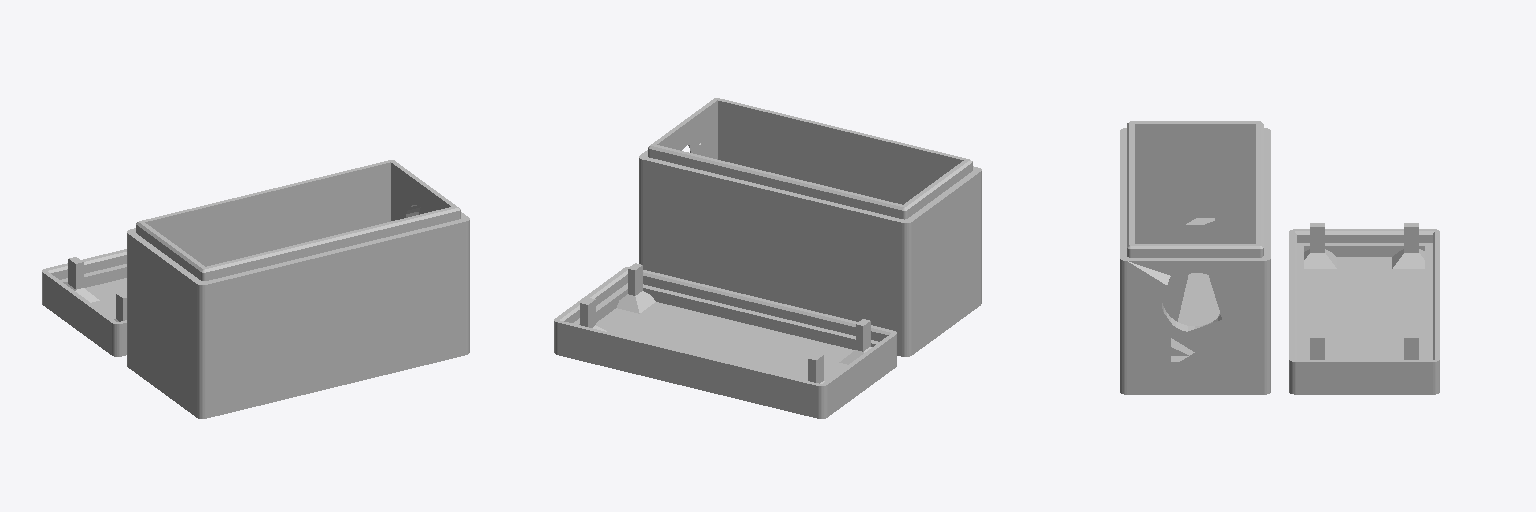
Rendered from nano-case.obj.
The picture shows the model from 3 angles: view 1: azimuth 30°, elevation 25°; view 2: azimuth 150°, elevation 25°; view 3: azimuth 270°, elevation 25°; orthographic projection.
Visible parts, largest first — view 1: NANOCASE-bottom.012_NANOCASE-bottom.003, NANOCASE-top-0.010; view 2: NANOCASE-bottom.012_NANOCASE-bottom.003, NANOCASE-top-0.010; view 3: NANOCASE-bottom.012_NANOCASE-bottom.003, NANOCASE-top-0.010.
Part boxes in pixels (x1,y1,x2,y2): NANOCASE-bottom.012_NANOCASE-bottom.003: (127,160,469,418); NANOCASE-top-0.010: (42,249,126,356); NANOCASE-bottom.012_NANOCASE-bottom.003: (639,98,981,356); NANOCASE-top-0.010: (554,263,896,418); NANOCASE-bottom.012_NANOCASE-bottom.003: (1120,121,1270,394); NANOCASE-top-0.010: (1289,223,1439,394).
Bounding box in the file's own units: 52.24 × 26.56 × 53.33.